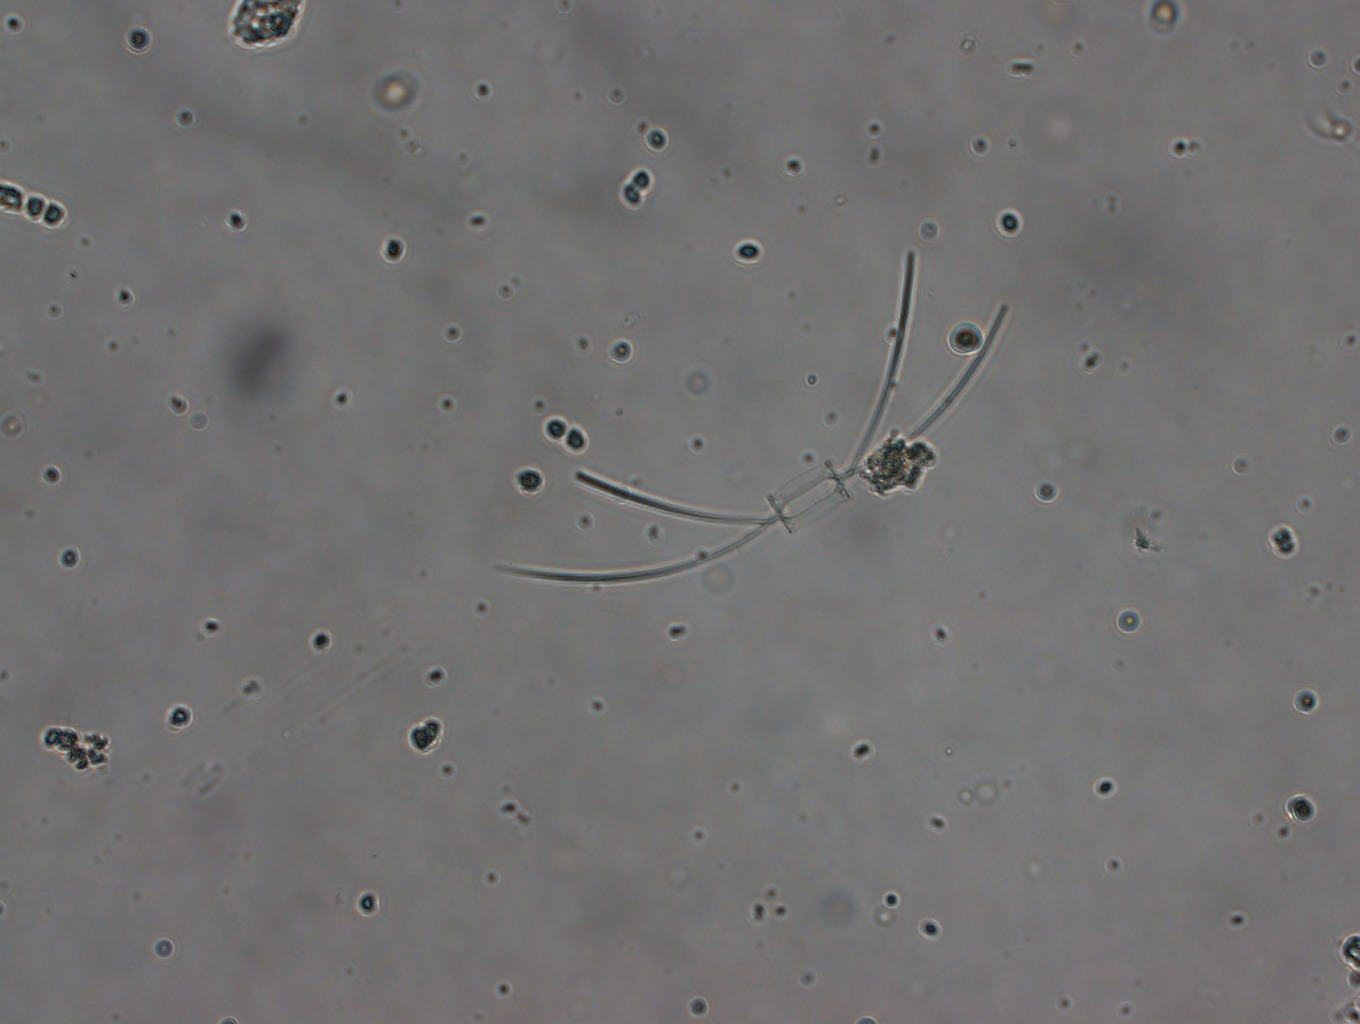chaetoceros: (493, 245, 1013, 584)
